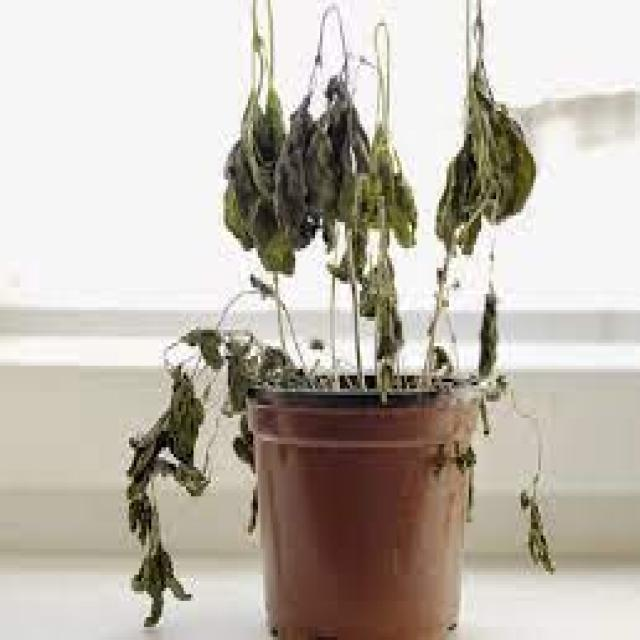unhealthy: (214, 12, 533, 329), (103, 307, 250, 632)
